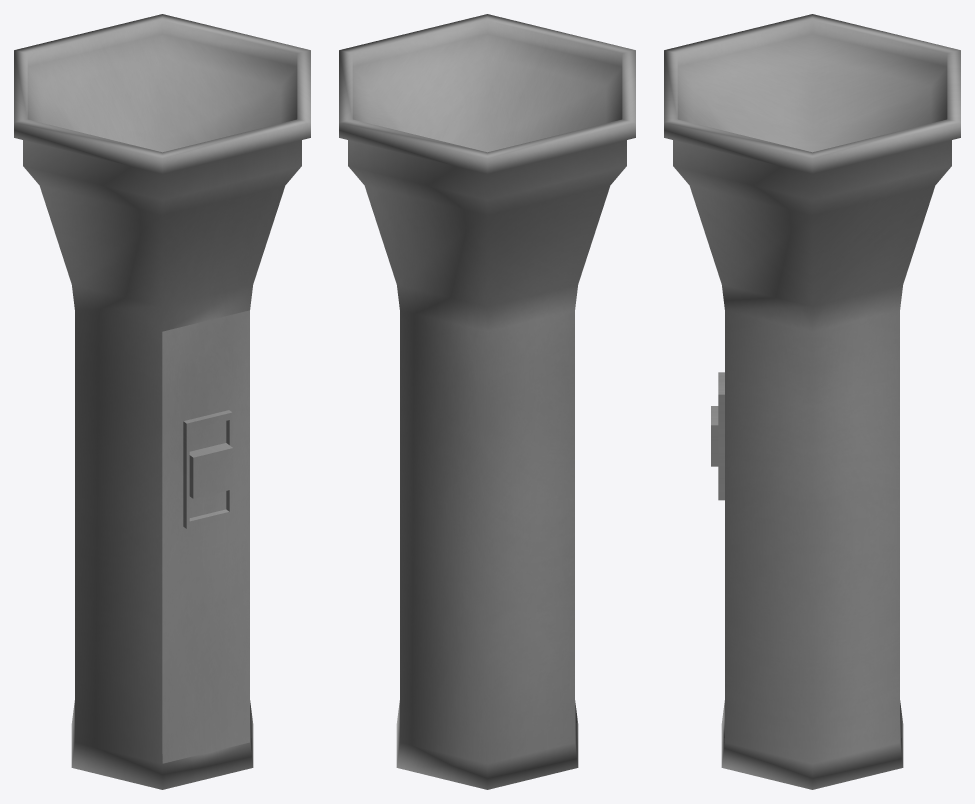
The model's file is Shoudiantong.fbx.
3 views of the same model, side by side, from view 1: azimuth 30°, elevation 25°; view 2: azimuth 150°, elevation 25°; view 3: azimuth 270°, elevation 25° (orthographic).
Visible parts, largest first — view 1: pCylinder1; view 2: pCylinder1; view 3: pCylinder1.
Part boxes in pixels (x1,y1,x2,y2): pCylinder1: (14,14,310,789); pCylinder1: (339,14,635,789); pCylinder1: (664,14,960,789).
Size of the model in its own units: 3.27 by 6.94 by 2.84.
1 material, 1 textured.
